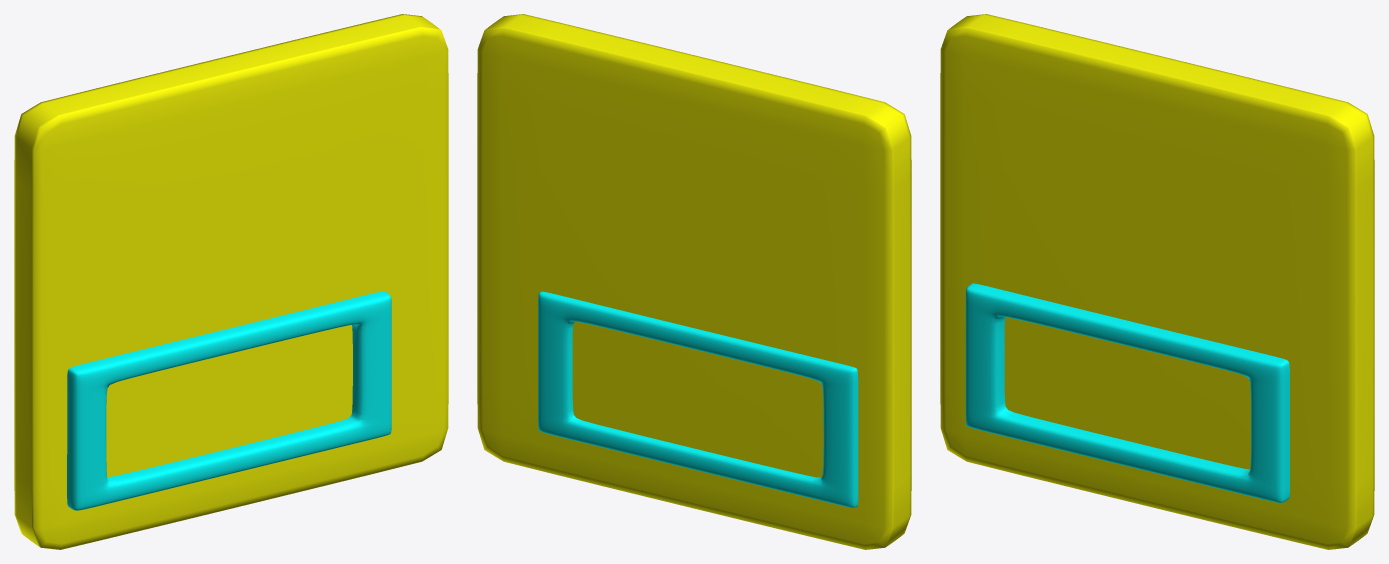
3 views of the same model, side by side, from view 1: azimuth 30°, elevation 25°; view 2: azimuth 150°, elevation 25°; view 3: azimuth 330°, elevation 25° (orthographic).
Parts seen in each view (by area): view 1: polySurface1006; view 2: polySurface1006; view 3: polySurface1006.
Boxes of the visible parts, x1=… form: polySurface1006: x1=14, y1=14, x2=448, y2=549; polySurface1006: x1=477, y1=14, x2=911, y2=549; polySurface1006: x1=940, y1=14, x2=1374, y2=549.
Size of the model in its own units: 0.9994 by 0.9994 by 0.1498.
